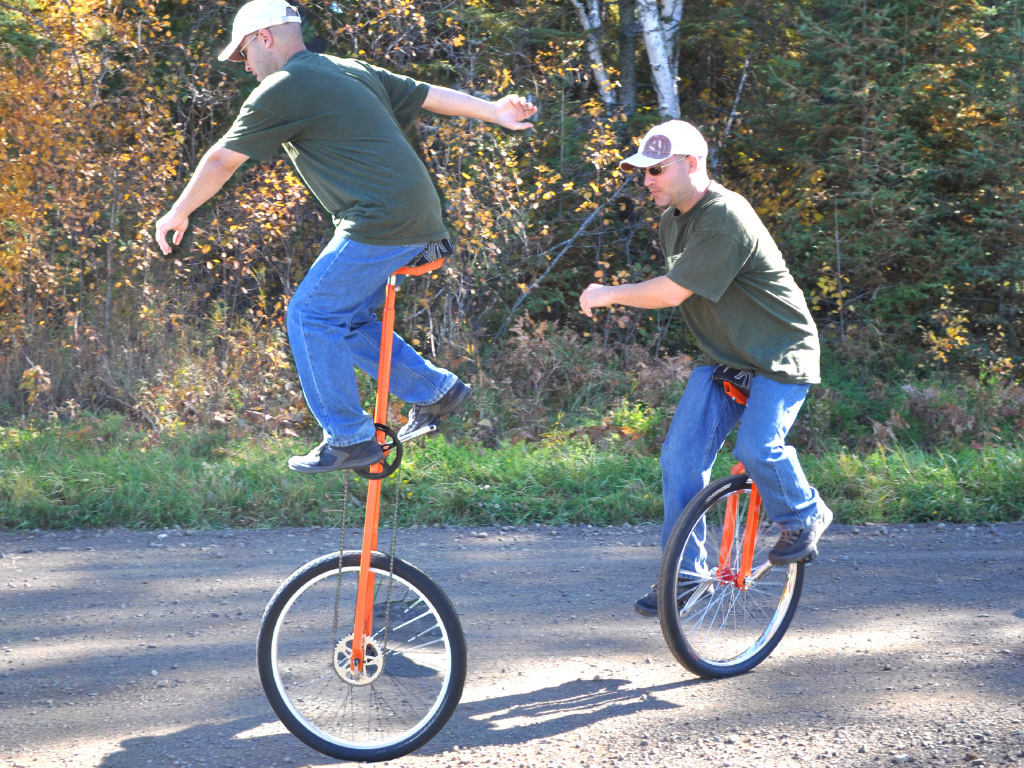wheel: (260, 543, 469, 755), (664, 472, 808, 680)
